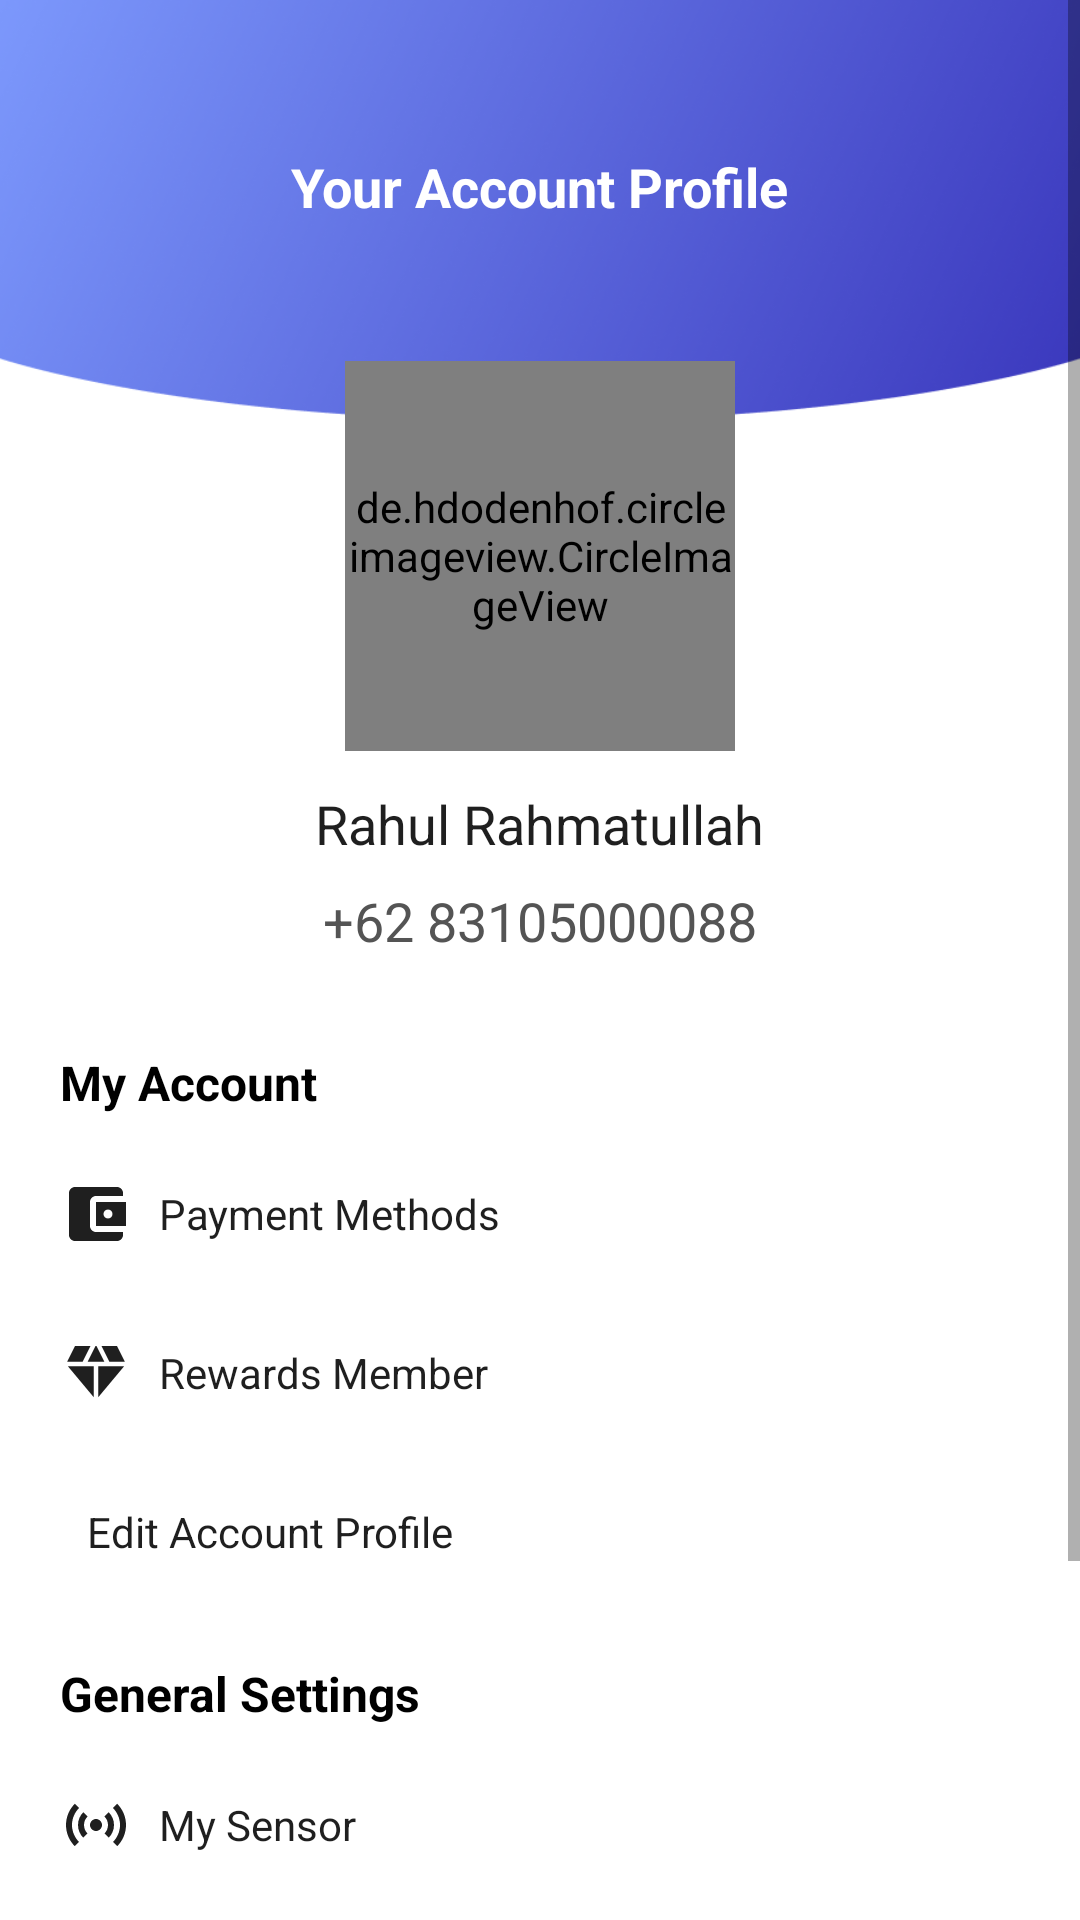

Named icons in this screenshot (1080px x 1920px) and their centers, (x,y):
account balance wallet: (97,1214)
diamond: (96,1371)
sensors: (96,1825)
